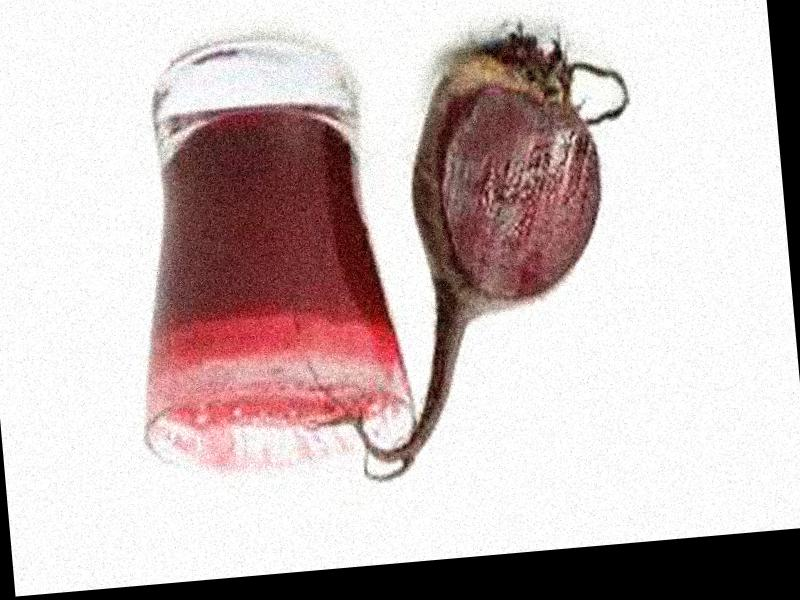Beet: (286, 20, 658, 486)
